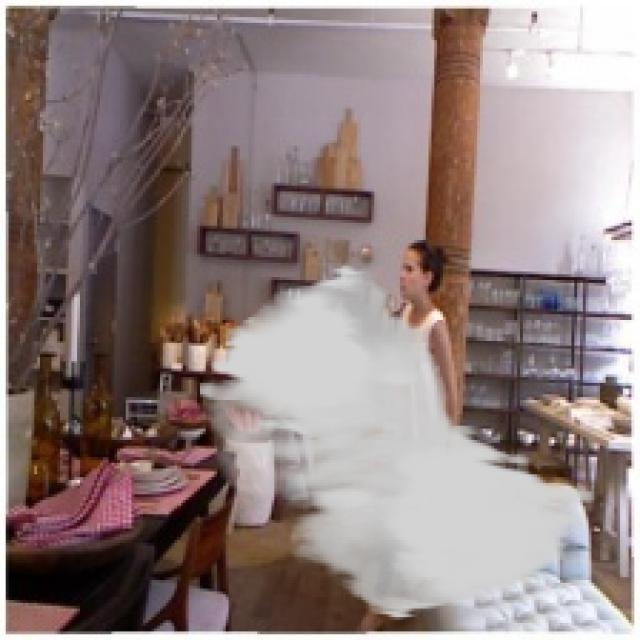smoke: (197, 263, 594, 620)
